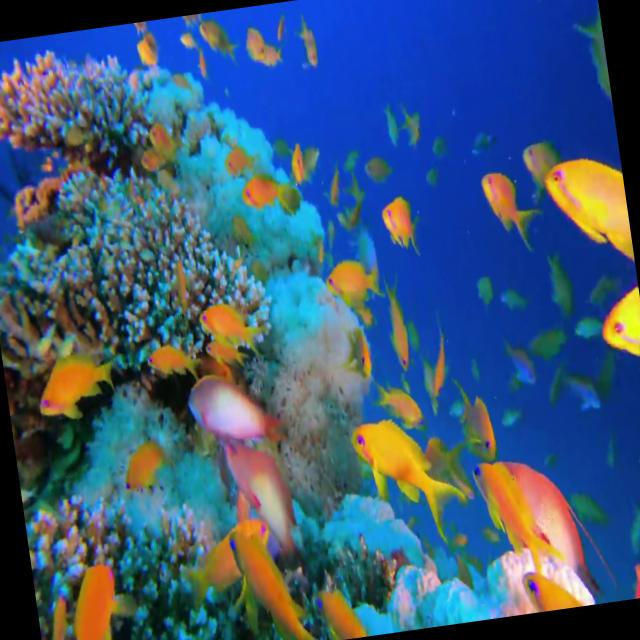fish: (470, 440, 602, 618), (339, 392, 475, 562), (178, 351, 300, 468), (222, 436, 319, 582), (537, 142, 635, 274), (229, 508, 323, 640), (182, 511, 285, 609), (30, 336, 128, 439), (58, 541, 147, 640), (581, 267, 640, 376), (476, 157, 539, 256), (194, 290, 276, 364), (136, 325, 208, 402), (318, 234, 382, 319), (118, 422, 176, 508), (378, 190, 433, 268), (519, 128, 569, 213), (378, 284, 421, 382), (192, 8, 244, 70), (34, 578, 84, 640), (235, 162, 289, 216), (355, 141, 398, 192), (296, 13, 328, 78), (284, 137, 314, 201), (397, 97, 428, 155), (144, 110, 174, 160), (134, 32, 166, 72)
